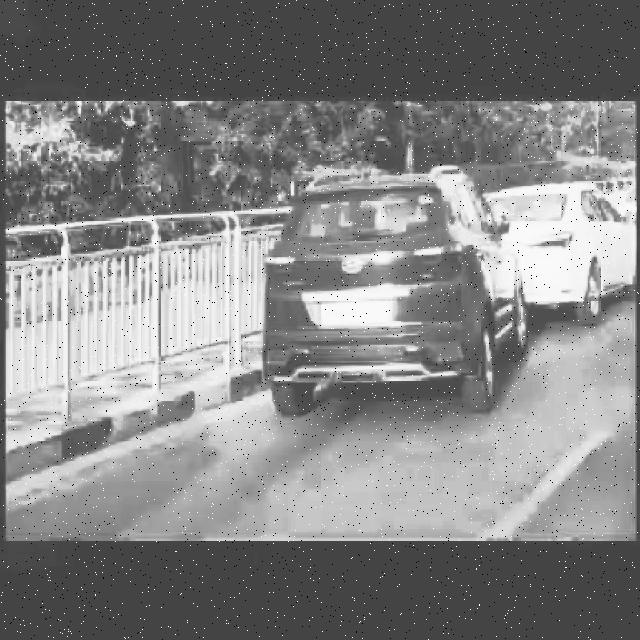Car: (253, 169, 502, 427), (518, 178, 618, 294)
